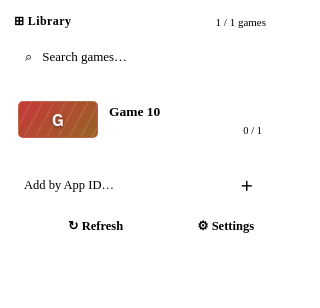
Test case: Sidebar add by App ID › Enter opens the added game when nothing is unsaved
Type "20" into the field labelled "Add by App ID…".
click(117, 186); type("20")  # box [14,169,220,202]
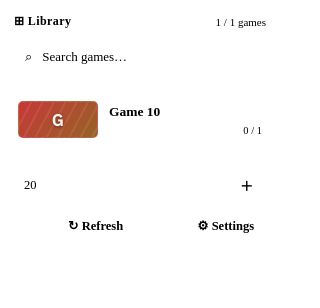
Press Enter
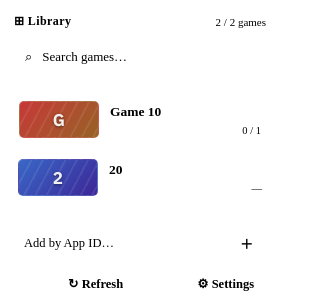
Check: the button with test id "sidebar-game-20" is shown, box [8,150,272,205]
